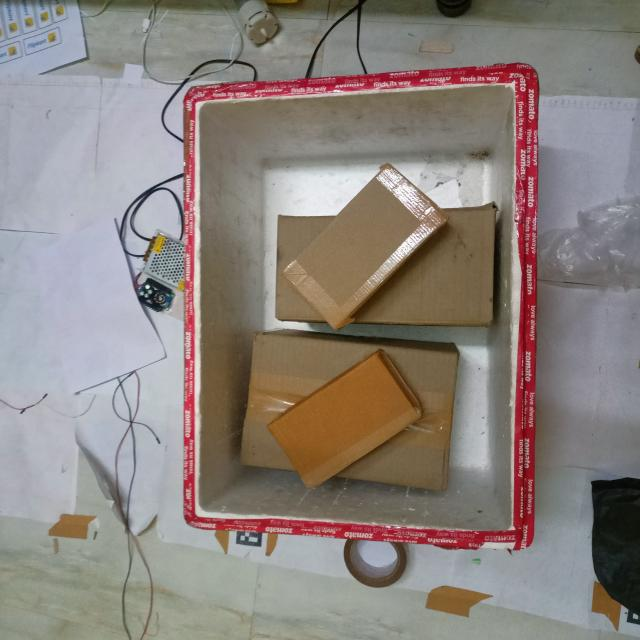box: (282, 161, 450, 336), (265, 349, 419, 492)
